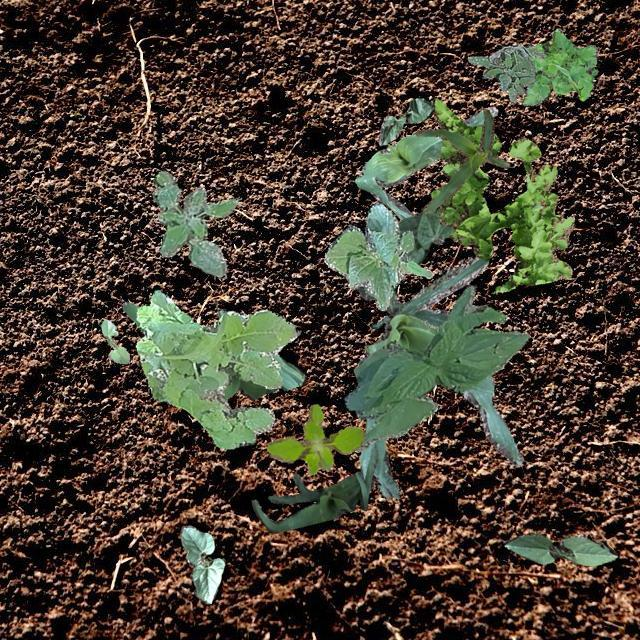crop: (356, 256, 522, 498), (342, 284, 528, 452), (354, 105, 496, 242), (122, 300, 306, 400), (323, 202, 432, 310), (250, 446, 376, 532), (414, 108, 508, 212), (504, 532, 616, 564), (180, 524, 223, 602), (397, 206, 452, 264), (378, 98, 433, 144), (100, 318, 128, 362)
weed: (430, 98, 572, 292), (134, 290, 296, 448), (152, 170, 236, 276), (266, 404, 364, 474), (522, 27, 596, 104), (466, 42, 544, 102)
